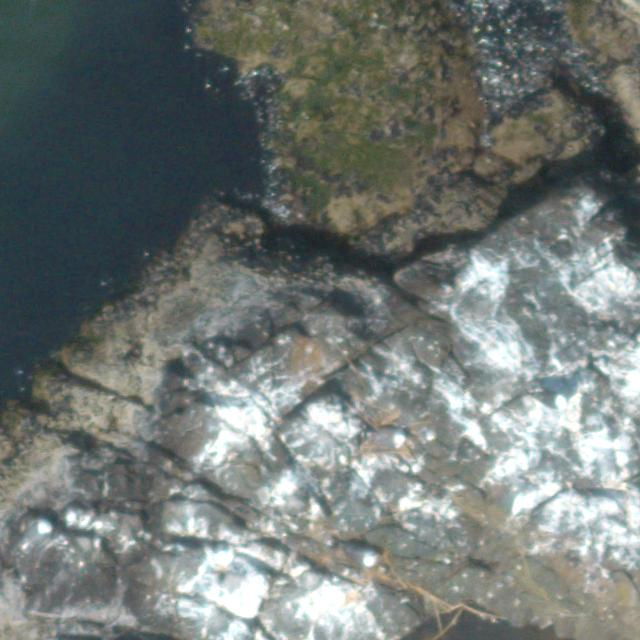umineko: (534, 388, 568, 413), (339, 545, 375, 564), (369, 430, 404, 447)
